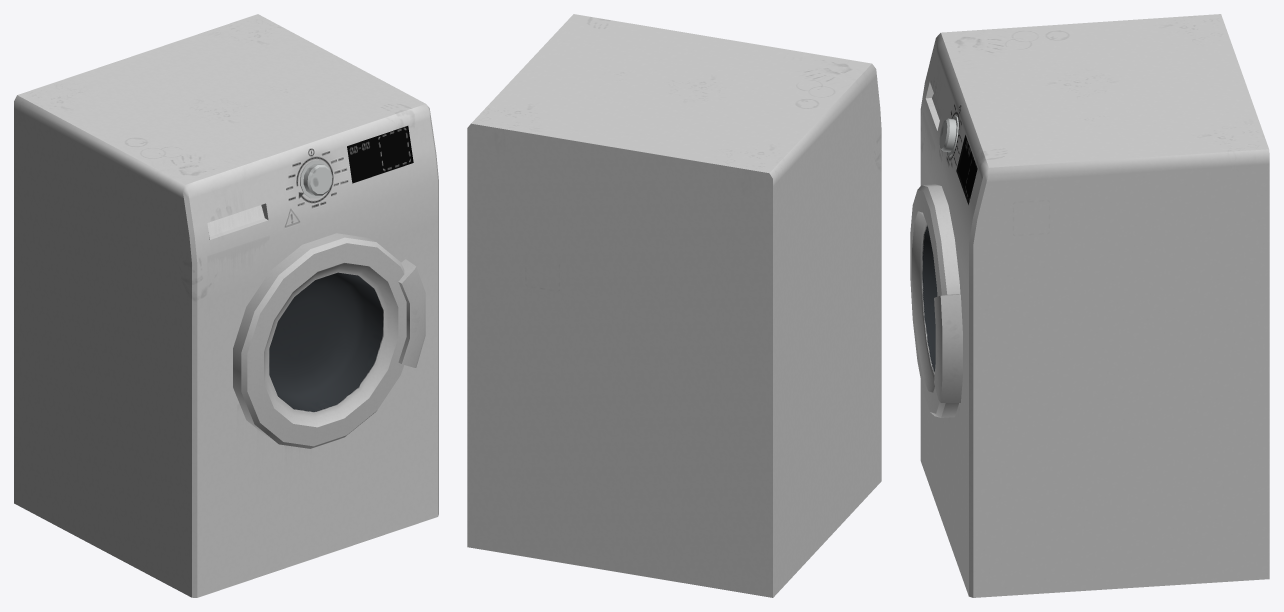
The model's file is washing_machine.glb.
The picture shows the model from 3 angles, left to right: view 1: azimuth 30°, elevation 25°; view 2: azimuth 150°, elevation 25°; view 3: azimuth 270°, elevation 25°; orthographic projection. The views are drawn at different scales.
Visible parts, largest first — view 1: Washing machine_0; view 2: Washing machine_0; view 3: Washing machine_0.
Part boxes in pixels (box(x1,y1,x2,y2)): Washing machine_0: box(14, 14, 438, 597); Washing machine_0: box(467, 14, 881, 597); Washing machine_0: box(910, 14, 1269, 597).
Size of the model in its own units: 0.6627 by 0.84 by 0.6394.
1 material, 1 textured.
